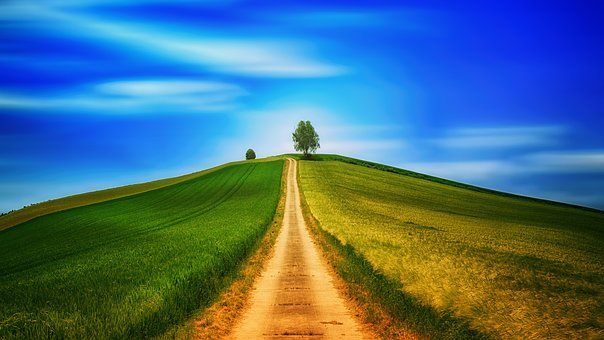field: (7, 149, 604, 340)
sky: (2, 1, 597, 186)
tree: (277, 111, 325, 166)
